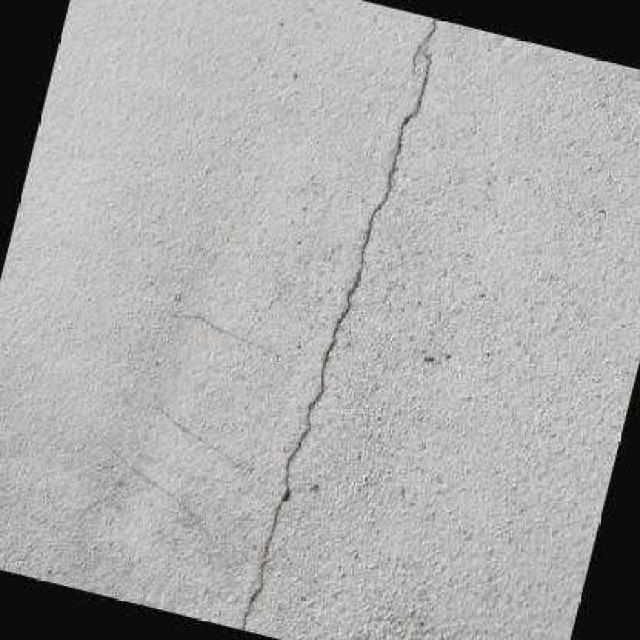D00: (239, 18, 439, 631)
